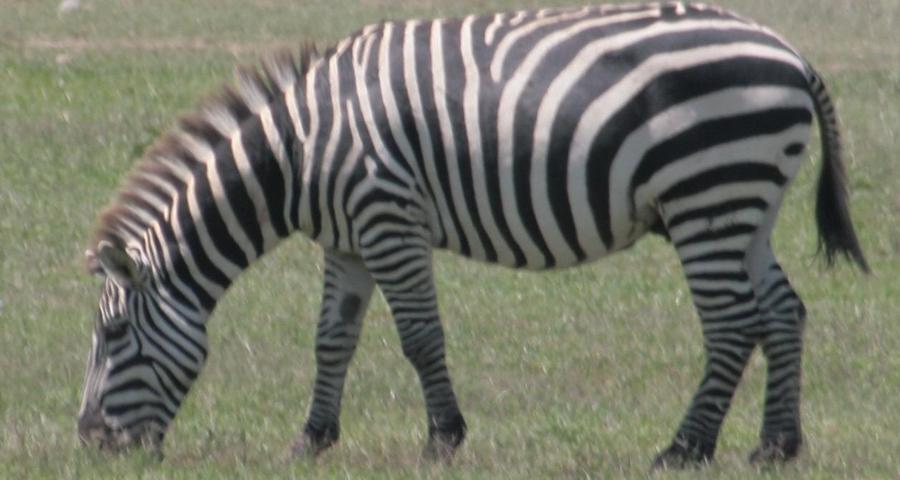zebra_plains: (258, 36, 823, 388)
